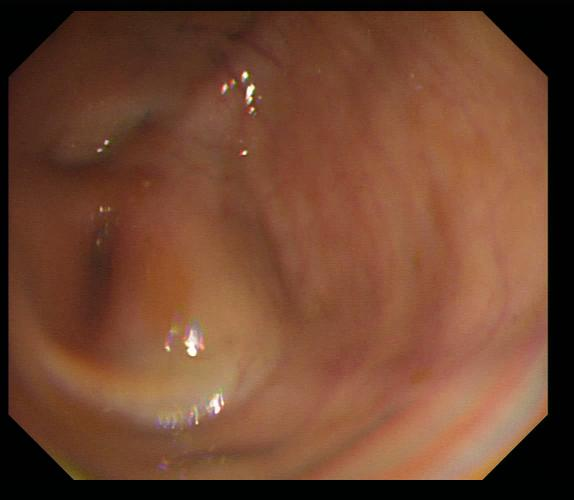polyp: (108, 228, 263, 394), (182, 73, 235, 127)
